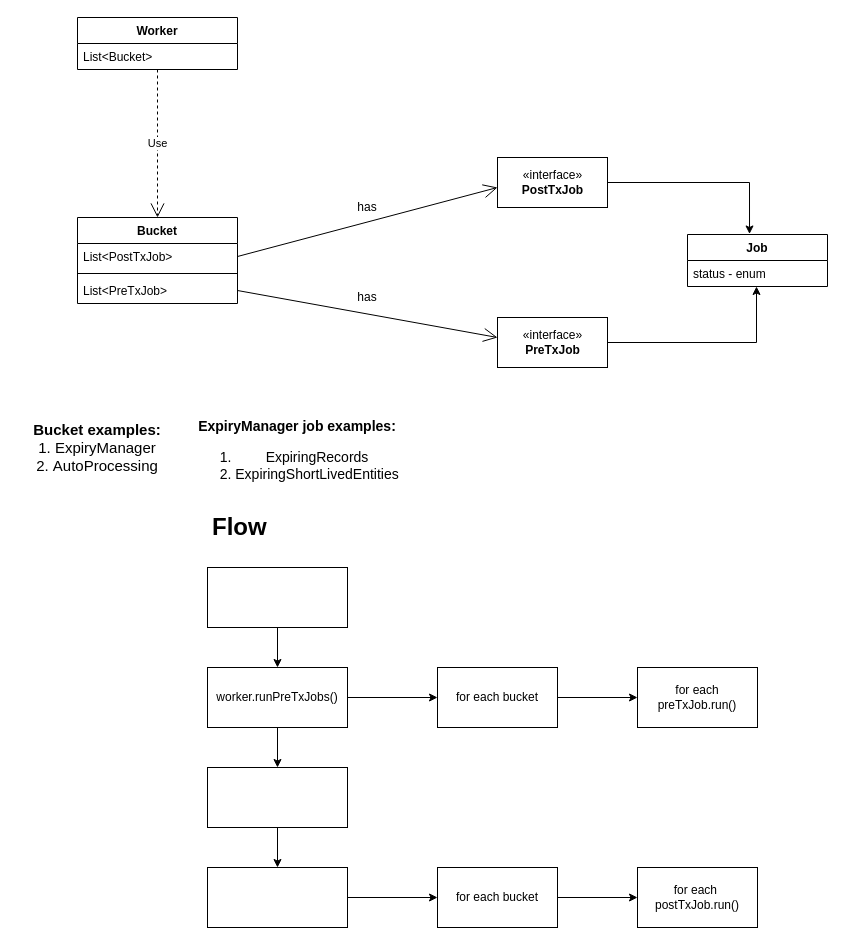
This 845x945 diagram has some shape labels left out. Each missing label, with the centre of its shape:
"Incoming TX" belongs at pixel 277 597.
"process tx" belongs at pixel 277 797.
"worker.runPostTxJobs()" belongs at pixel 277 897.
